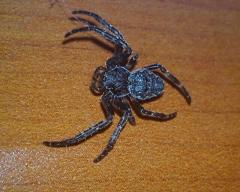spider: (37, 2, 199, 163)
